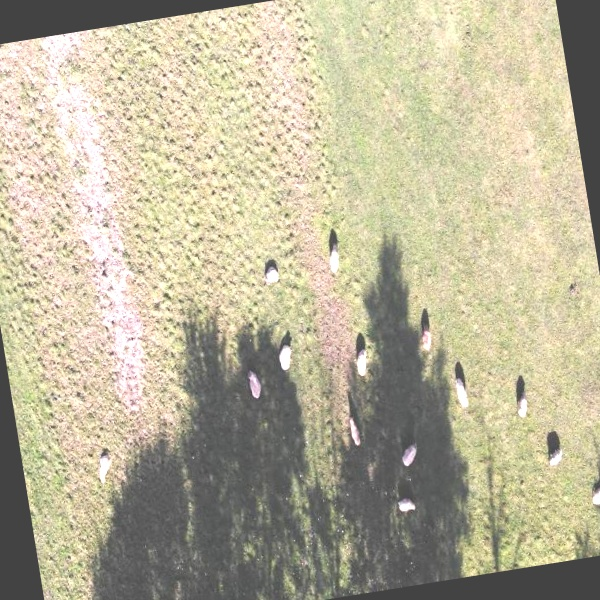sheep: (447, 365, 474, 419), (508, 381, 535, 432), (317, 235, 347, 280), (347, 336, 375, 384), (413, 312, 439, 360), (91, 452, 117, 490), (256, 260, 284, 294), (394, 435, 422, 468), (393, 489, 421, 520), (245, 371, 266, 407), (275, 348, 298, 380), (346, 419, 365, 455), (549, 442, 567, 473), (585, 478, 600, 513)
